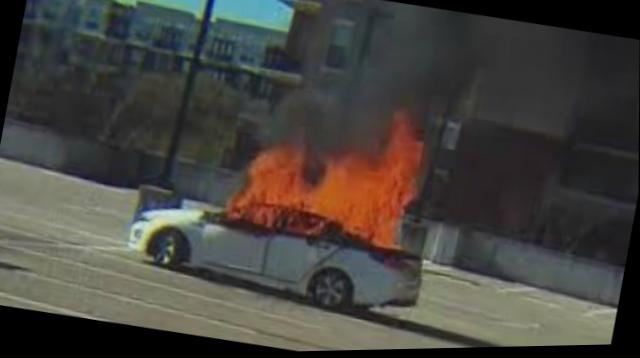fire: (201, 84, 445, 269)
